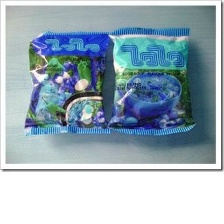snack: (101, 21, 201, 141), (18, 24, 116, 140)
